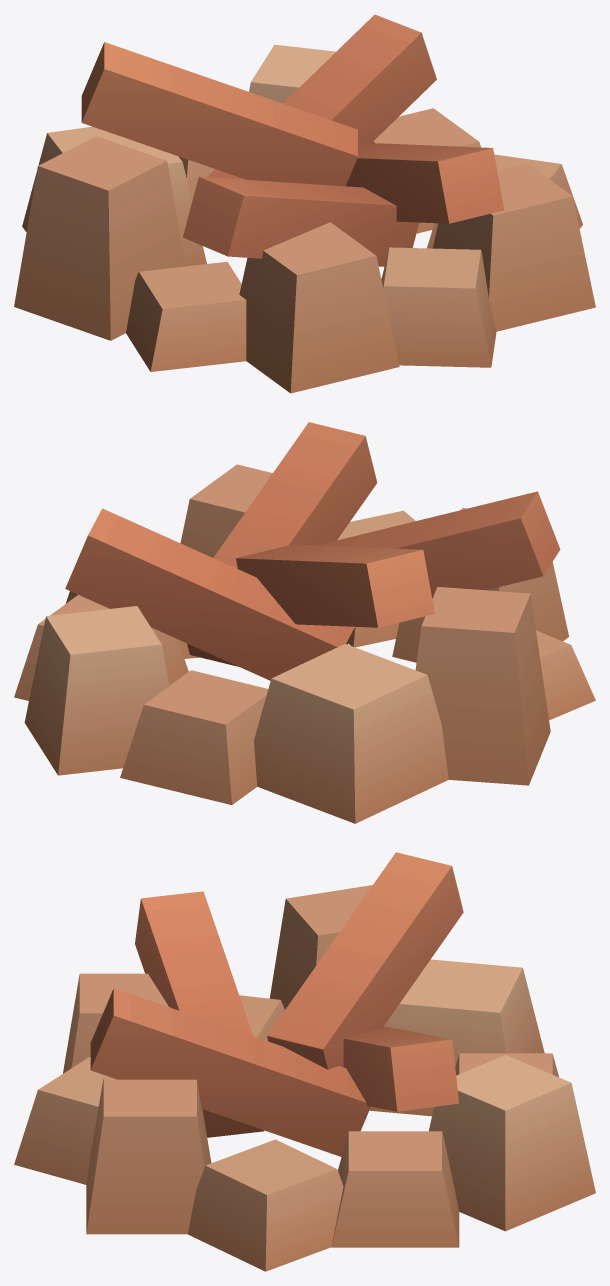
The model's file is campfire-pit.glb.
3 renders of one model, top to bottom at view 1: azimuth 30°, elevation 25°; view 2: azimuth 150°, elevation 25°; view 3: azimuth 270°, elevation 25°, orthographic. The views are drawn at different scales.
Visible parts, largest first — view 1: campfire-pit; view 2: campfire-pit; view 3: campfire-pit.
Part boxes in pixels (x1=…): campfire-pit: x1=14, y1=14, x2=595, y2=393; campfire-pit: x1=14, y1=422, x2=595, y2=823; campfire-pit: x1=14, y1=852, x2=595, y2=1271.
Size of the model in its own units: 0.2778 by 0.1091 by 0.2692.
1 material, 1 textured.
